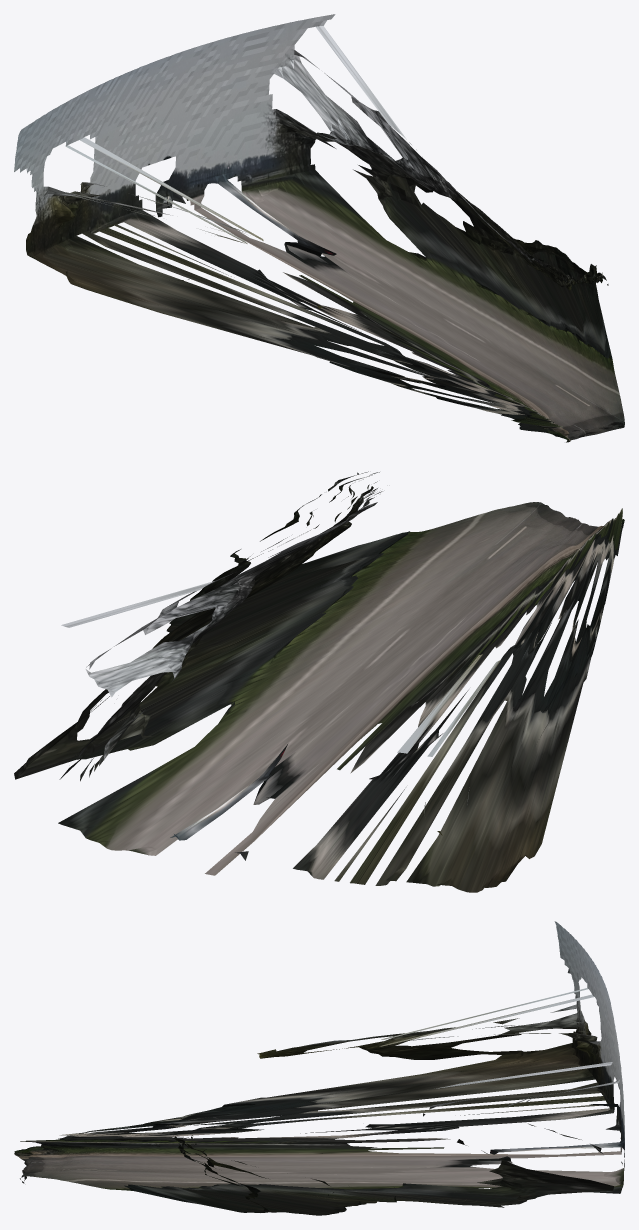
3 renders of one model, top to bottom at view 1: azimuth 30°, elevation 25°; view 2: azimuth 150°, elevation 25°; view 3: azimuth 270°, elevation 25°, orthographic. The views are drawn at different scales.
Parts seen in each view (by area): view 1: defaultobject; view 2: defaultobject; view 3: defaultobject.
Boxes of the visible parts, box(x1,y1,x2,y2) form: defaultobject: box(14, 14, 624, 442); defaultobject: box(14, 471, 624, 892); defaultobject: box(14, 921, 624, 1215).
Bounding box in the file's own units: 31.15 × 12.16 × 44.92.
Materials: 1 (1 with a texture image).
